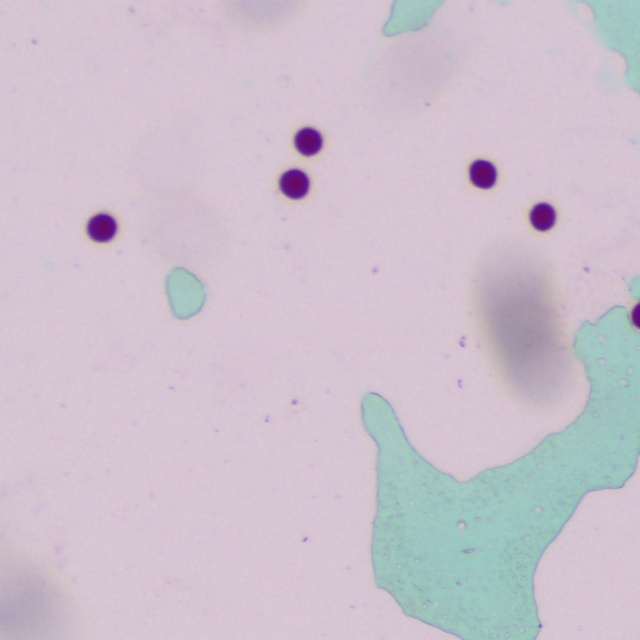viable: (281, 170, 309, 198), (88, 214, 116, 241), (295, 128, 322, 155), (470, 161, 496, 188), (531, 204, 555, 230)
